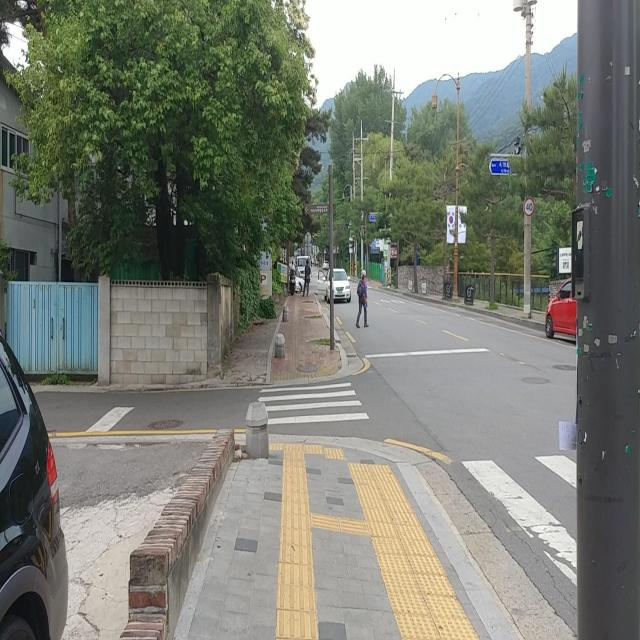횡단보도: (462, 460, 579, 616), (257, 382, 370, 425)
